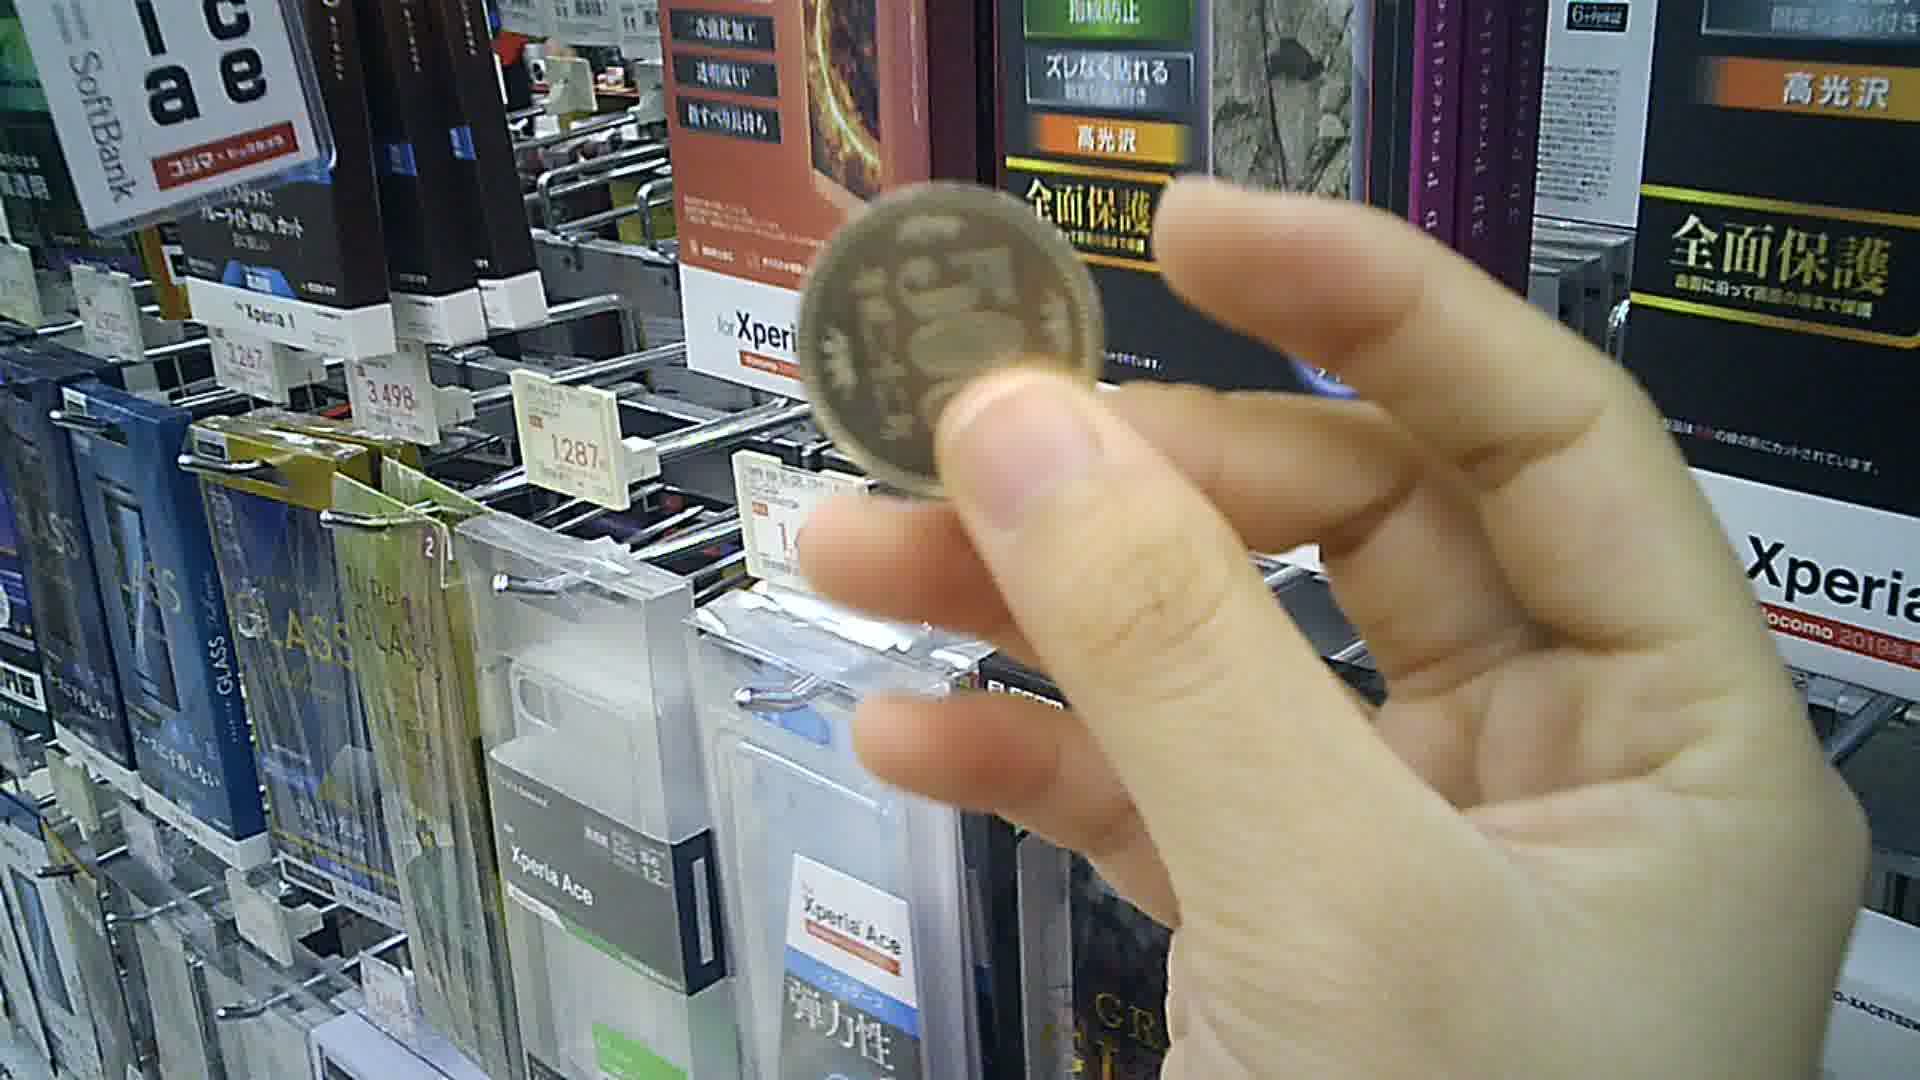500 Yen: (791, 182, 1109, 500)
